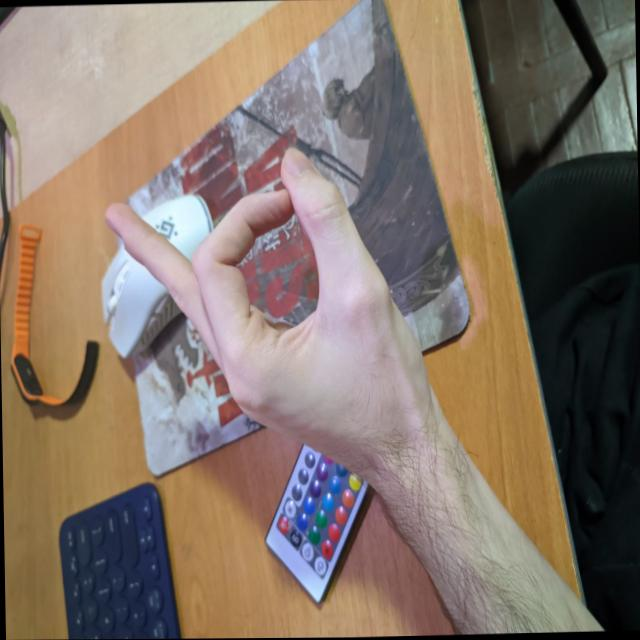o: (59, 97, 413, 447)
